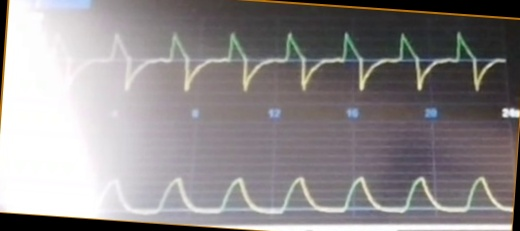Normal Flow: (51, 24, 506, 98)
Normal Volume: (93, 157, 510, 216)
